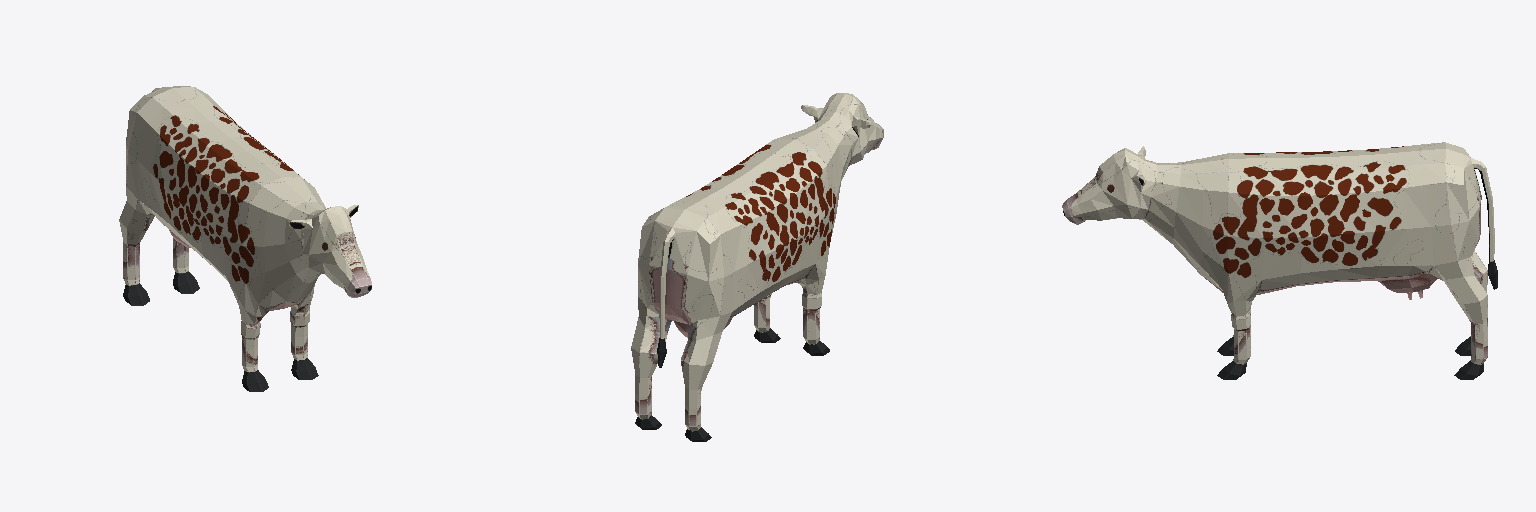
3 renders of one model, left to right at view 1: azimuth 30°, elevation 25°; view 2: azimuth 150°, elevation 25°; view 3: azimuth 270°, elevation 25°, orthographic.
Visible parts, largest first — view 1: Cow_mesh; view 2: Cow_mesh; view 3: Cow_mesh.
Boxes of the visible parts, box(x1,y1,x2,y2) form: Cow_mesh: box(119, 86, 371, 391); Cow_mesh: box(631, 93, 883, 441); Cow_mesh: box(1062, 142, 1497, 379).
Bounding box in the file's own units: 3.36 × 7.42 × 13.65.
1 materials, 1 textured.